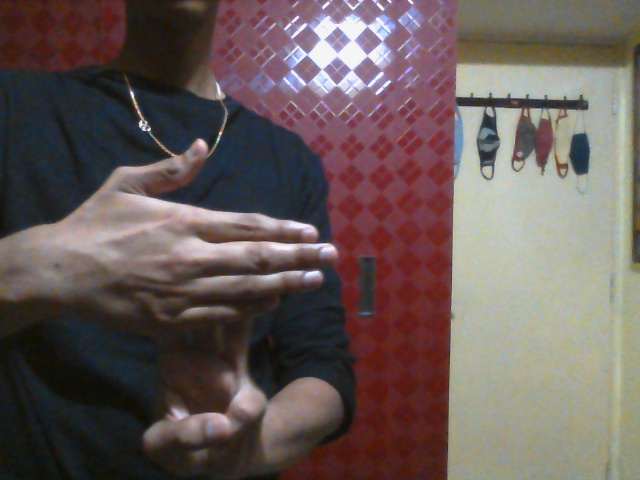M: (93, 135, 341, 463)
